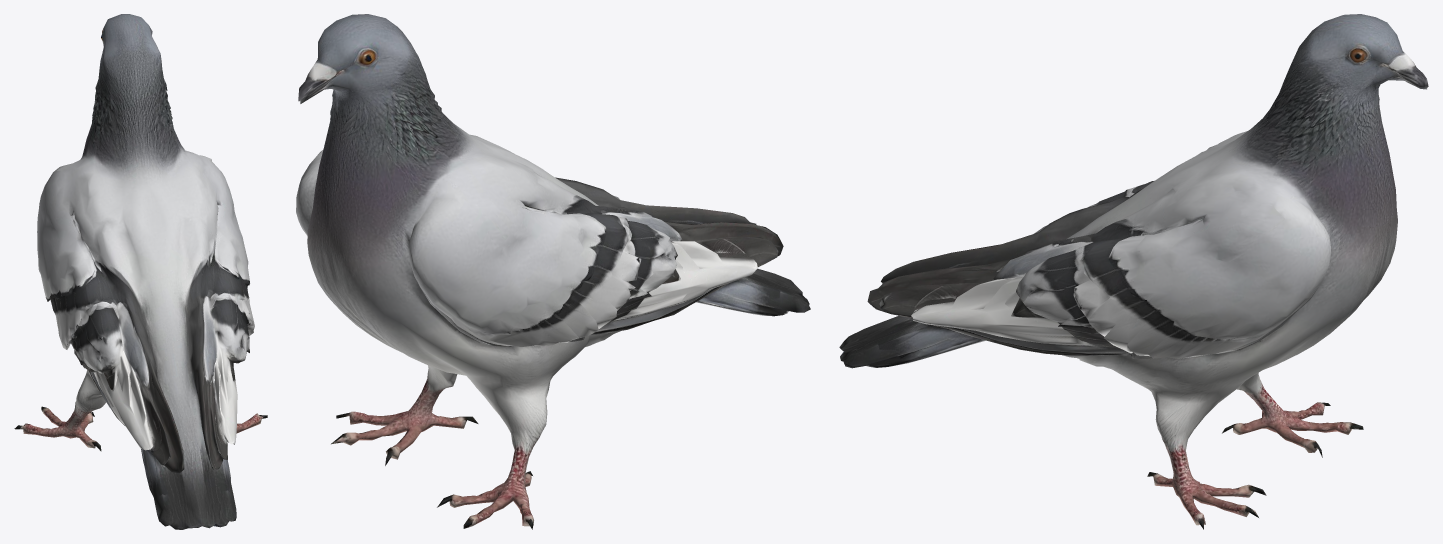
File: dove.glb
The picture shows the model from 3 angles, left to right: view 1: azimuth 30°, elevation 25°; view 2: azimuth 150°, elevation 25°; view 3: azimuth 270°, elevation 25°; orthographic projection. The views are drawn at different scales.
Visible parts, largest first — view 1: tripo_node_d539b4b7-abcf-44ed-98e2-4f7858b81729; view 2: tripo_node_d539b4b7-abcf-44ed-98e2-4f7858b81729; view 3: tripo_node_d539b4b7-abcf-44ed-98e2-4f7858b81729.
Boxes of the visible parts, x1=… form: tripo_node_d539b4b7-abcf-44ed-98e2-4f7858b81729: x1=14, y1=14, x2=267, y2=529; tripo_node_d539b4b7-abcf-44ed-98e2-4f7858b81729: x1=296, y1=14, x2=810, y2=529; tripo_node_d539b4b7-abcf-44ed-98e2-4f7858b81729: x1=839, y1=14, x2=1428, y2=529.
Size of the model in its own units: 0.5324 by 0.8156 by 0.927.
Materials: 1 (1 with a texture image).
